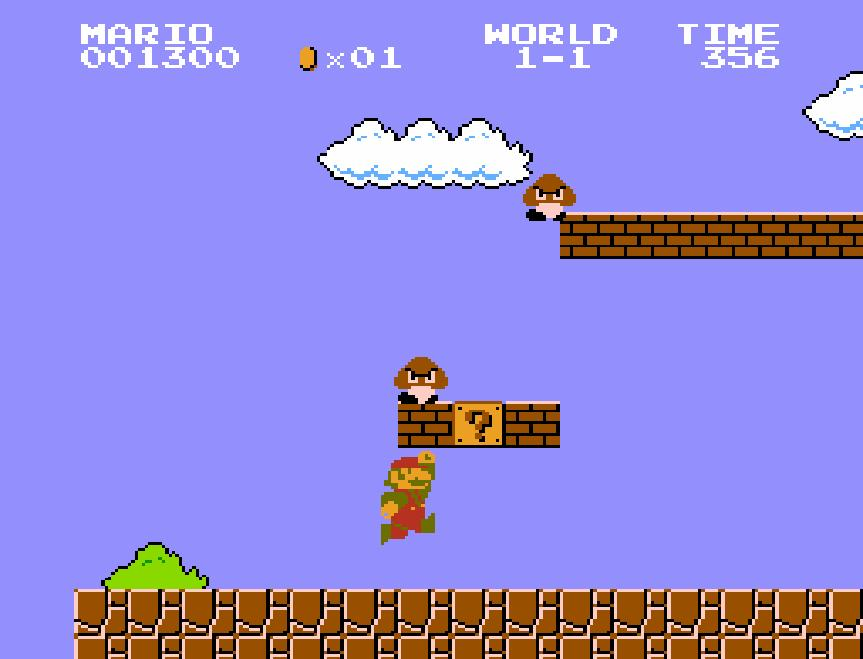big_mario: (379, 449, 437, 547)
